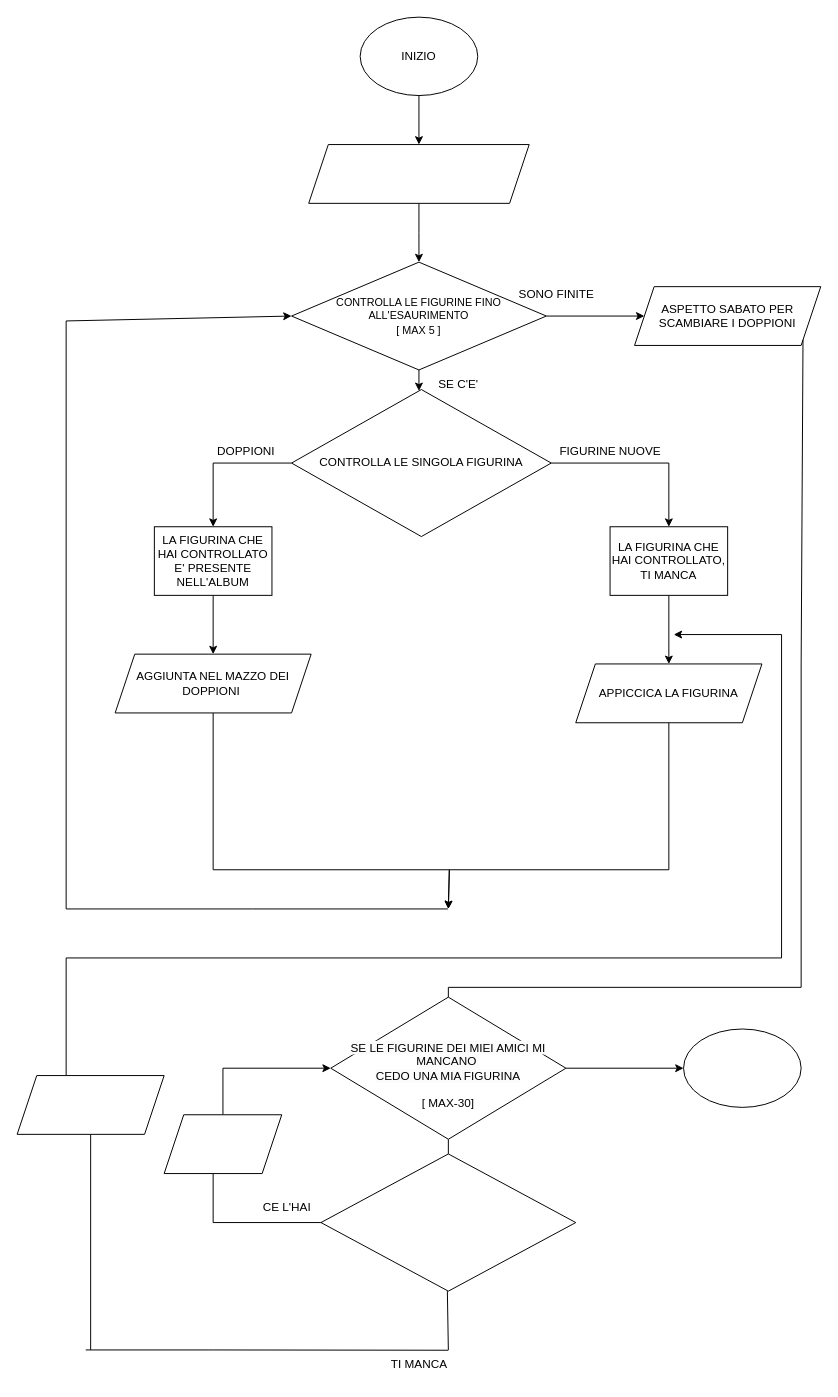
Some shapes in this 838 by 1397 pixel diagram are drawn without their labels. The box of each missing label's shape, as (x1, y1, x2, y2) in pixels:
APRIRE IL PACCHETTO: (308, 144, 529, 203)
CEDI UNA FIGURINA: (16, 1075, 164, 1134)
CONTINUI A CERCARE: (163, 1114, 282, 1174)
FINE: (683, 1028, 801, 1107)
SE LE FIGURINE DEI MIEI AMICI MI MANCANO CEDO UNA MIA FIGURINA: (320, 1153, 576, 1291)
